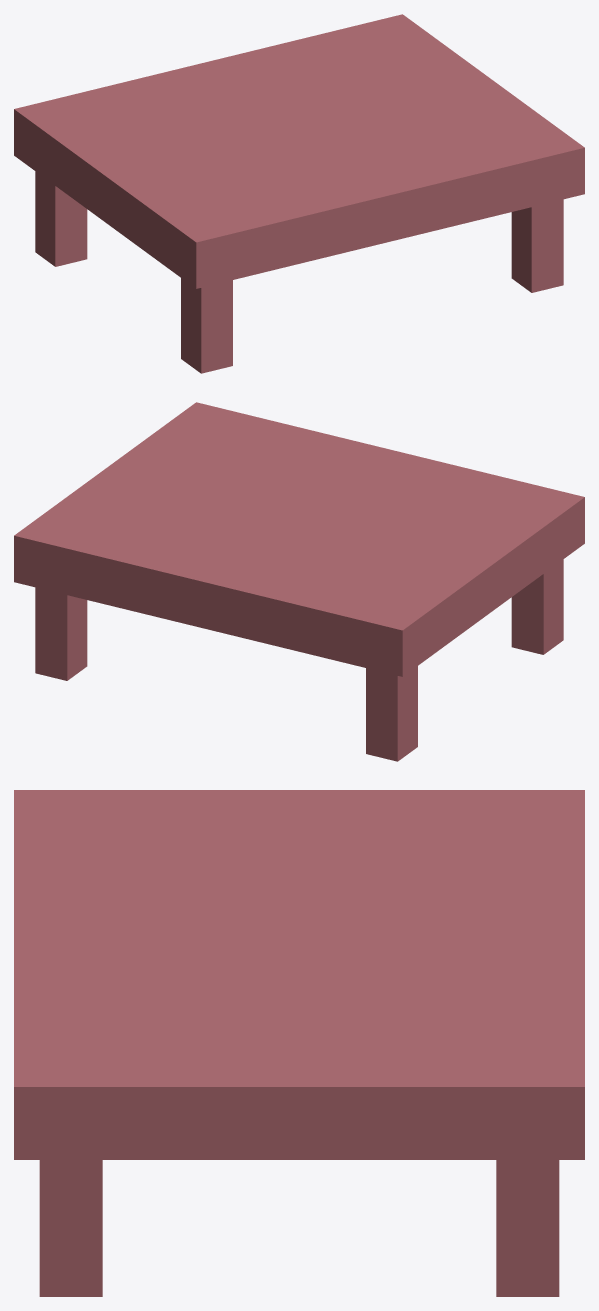
Rendered from table.glb.
The picture shows the model from 3 angles, top to bottom: view 1: azimuth 30°, elevation 25°; view 2: azimuth 150°, elevation 25°; view 3: azimuth 270°, elevation 25°; orthographic projection. The views are drawn at different scales.
Visible parts, largest first — view 1: table; view 2: table; view 3: table.
Part boxes in pixels (x1=…): table: x1=14, y1=14, x2=584, y2=373; table: x1=14, y1=402, x2=584, y2=761; table: x1=14, y1=790, x2=584, y2=1296.
Bounding box in the file's own units: 2.8 × 0.9668 × 2.27.
Materials: 1 (1 with a texture image).
